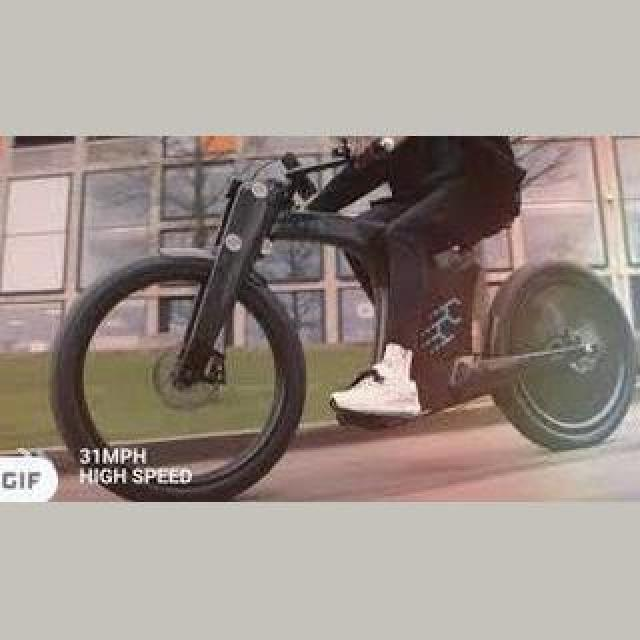MC-Bike: (352, 134, 522, 416)
Person: (52, 182, 630, 500)
